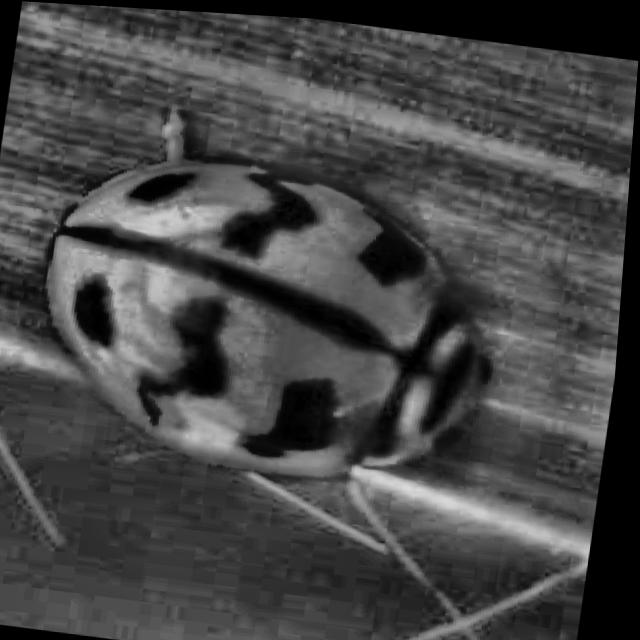Asian-Lady-beetle: (0, 76, 582, 538)
